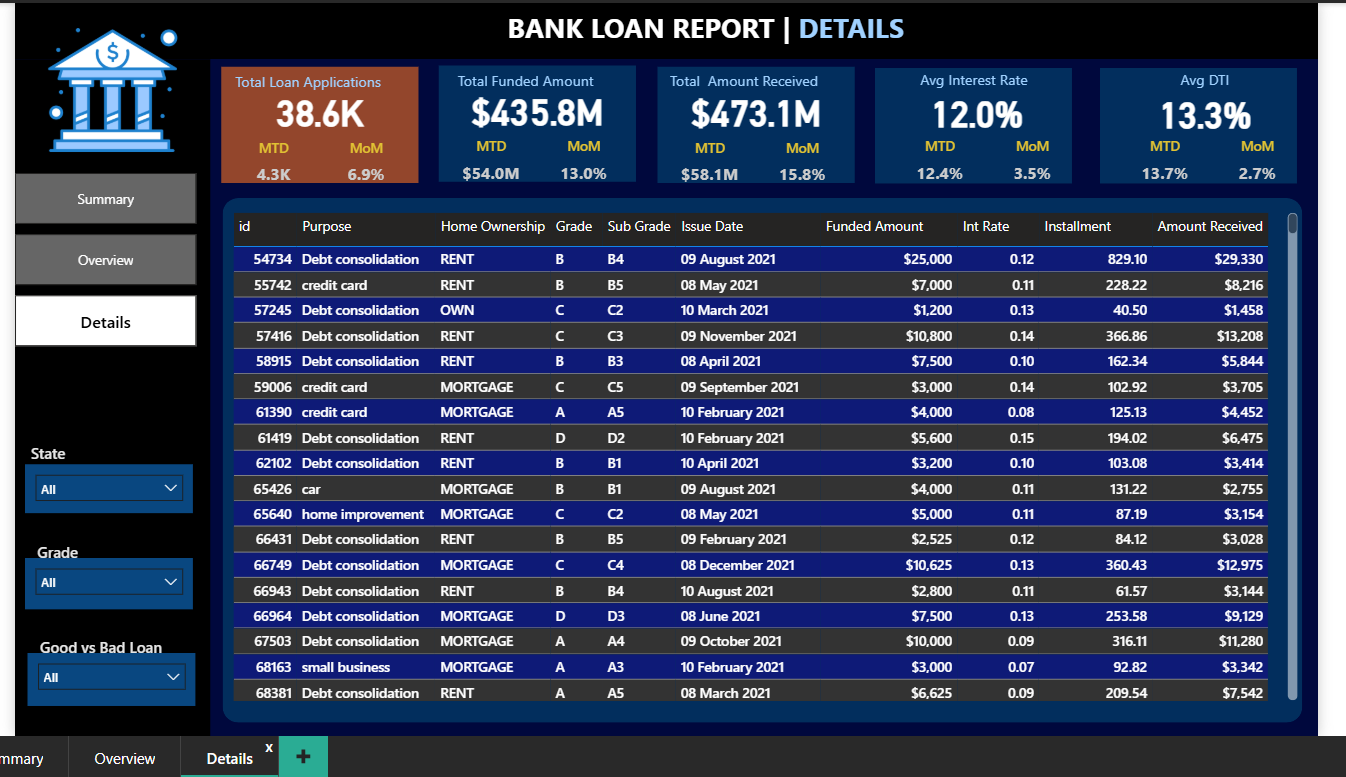

The dashboard page shown, as its layout file describes it:
{"tool":"powerbi","page":{"name":"Details","canvas":[1280,720],"ordinal":2},"visuals":[{"type":"shape","box":[0,0,1280,55],"z":0},{"type":"shape","box":[416.6,61.2,193.9,114.1],"z":0,"group":"g3"},{"type":"shape","box":[202.5,62.5,193.9,114.1],"z":0,"group":"g2"},{"type":"shape","box":[630.6,62.9,193.9,114.1],"z":0,"group":"g4"},{"type":"shape","box":[844.7,63.3,193.3,113.3],"z":1000,"group":"g5"},{"type":"shape","box":[1065,63.3,193.3,113.3],"z":1000,"group":"g6"},{"type":"card","fields":{"Values":["Bank_loan_data.Total Funded Amount"]},"box":[431.3,77.2,164.4,54],"z":1000,"group":"g3"},{"type":"card","fields":{"Values":["Bank_loan_data.Total Loan Applications"]},"box":[217.2,78.5,164.4,54],"z":1000,"group":"g2"},{"type":"card","fields":{"Values":["Bank_loan_data.Total Amount Received"]},"box":[645.3,78.8,164.4,54],"z":1000,"group":"g4"},{"type":"shape","box":[203.3,191.7,1060,515],"z":1000},{"type":"shape","box":[0,55,191.7,665],"z":2000},{"type":"textbox","box":[416.6,61.2,170.6,31.9],"z":2000,"group":"g3"},{"type":"textbox","box":[630.6,61.2,170,31.7],"z":2000,"group":"g4"},{"type":"textbox","box":[202.5,62.5,170.6,31.9],"z":2000,"group":"g2"},{"type":"textbox","box":[471.2,1.2,472.4,54],"z":3000},{"type":"card","fields":{"Values":["Bank_loan_data.Avg Interest Rate"]},"box":[863,80,163.3,53.3],"z":3000,"group":"g5"},{"type":"card","fields":{"Values":["Bank_loan_data.Avg DTI"]},"box":[1087.2,81.2,162.5,53.8],"z":3000,"group":"g6"},{"type":"card","title":"MTD","fields":{"Values":["Bank_loan_data.MTD Funded Amount"]},"box":[422.7,131.1,90.8,57.7],"z":3000,"group":"g3"},{"type":"card","title":"MTD","fields":{"Values":["Bank_loan_data.MTD Loan Applications"]},"box":[208.6,132.4,90.8,57.7],"z":3000,"group":"g2"},{"type":"card","title":"MTD","fields":{"Values":["Bank_loan_data.MTD Total Amount Received"]},"box":[636.7,132.8,90.8,57.7],"z":3000,"group":"g4"},{"type":"group","id":"g1","title":"Group 1","box":[202.5,62.5,193.8,127.5],"z":4000},{"type":"card","title":"MoM","fields":{"Values":["Bank_loan_data.MoM Total Funded Amount"]},"box":[513.5,131.1,90.8,57.7],"z":4000,"group":"g3"},{"type":"card","title":"MoM","fields":{"Values":["Bank_loan_data.MoM Loan Application"]},"box":[299.4,132.4,90.8,57.7],"z":4000,"group":"g2"},{"type":"card","title":"MoM","fields":{"Values":["Bank_loan_data.MoM Total Amount Received"]},"box":[727.5,132.8,90.8,57.7],"z":4000,"group":"g4"},{"type":"group","id":"g2","title":"Group 2","box":[202.5,62.5,193.9,127.6],"z":4005,"group":"g1"},{"type":"textbox","box":[856.4,60,170,31.7],"z":5000,"group":"g5"},{"type":"textbox","box":[1076.7,60,170,31.7],"z":5000,"group":"g6"},{"type":"group","id":"g3","title":"Group 2","box":[416.6,61.2,193.8,128.8],"z":5000},{"type":"group","id":"g4","title":"Group 3","box":[630.6,61.2,193.8,130],"z":6000},{"type":"card","title":"MTD","fields":{"Values":["Bank_loan_data.MTD Avg Int Rate"]},"box":[862.5,131.6,90.8,57.7],"z":6000,"group":"g5"},{"type":"card","title":"MTD","fields":{"Values":["Bank_loan_data.MTD Avg DTI"]},"box":[1082.8,131.6,90.8,57.7],"z":6000,"group":"g6"},{"type":"group","id":"g5","title":"Group 4","box":[844.7,60,200,128.8],"z":7000},{"type":"card","title":"MoM","fields":{"Values":["Bank_loan_data.MoM Avg Int Rate"]},"box":[953.3,131.6,90.8,57.7],"z":7000,"group":"g5"},{"type":"card","title":"MoM","fields":{"Values":["Bank_loan_data.MoM Avg DTI"]},"box":[1173.6,131.6,90.8,57.7],"z":7000,"group":"g6"},{"type":"group","id":"g6","title":"Group 4","box":[1065,60,200,128.8],"z":8000},{"type":"slicer","fields":{"Values":["Bank_loan_data.address_state"]},"box":[10,453.3,165,48.3],"z":9000},{"type":"textbox","box":[5,426.7,63.3,43.3],"z":10000},{"type":"slicer","fields":{"Values":["Bank_loan_data.grade"]},"box":[10,545,165,50],"z":11000},{"type":"slicer","fields":{"Values":["Bank_loan_data.Good  vs Bad Loan"]},"box":[11.7,638.3,165,51.7],"z":12000},{"type":"textbox","box":[11.7,523.3,63.3,43.3],"z":13000},{"type":"textbox","box":[11.7,616.7,148.3,43.3],"z":14000},{"type":"tableEx","fields":{"Values":["Bank_loan_data.id","Bank_loan_data.purpose","Bank_loan_data.home_ownership","Bank_loan_data.grade","Bank_loan_data.sub_grade","Bank_loan_data.issue_date","Bank_loan_data.Total Funded Amount","Sum(Bank_loan_data.int_rate)","Sum(Bank_loan_data.installment)","Bank_loan_data.Total Amount Received"]},"box":[208.3,201.7,1055,488.3],"z":15000},{"type":"image","box":[15,10,161.7,151.7],"z":16000},{"type":"pageNavigator","box":[0,166.7,178.3,171.7],"z":17000}]}

Visuals, with their boxes on the page's 1280x720 design canvas (x1, y1, x2, y2). These are canvas units, not pixel positions in the 1346x777 screenshot, which may show the page scaled, cropped or inside an application window:
shape: <region>0, 0, 1280, 55</region>
shape: <region>417, 61, 610, 175</region>
shape: <region>202, 62, 396, 177</region>
shape: <region>631, 63, 824, 177</region>
shape: <region>845, 63, 1038, 177</region>
shape: <region>1065, 63, 1258, 177</region>
card - Bank_loan_data.Total Funded Amount: <region>431, 77, 596, 131</region>
card - Bank_loan_data.Total Loan Applications: <region>217, 78, 382, 132</region>
card - Bank_loan_data.Total Amount Received: <region>645, 79, 810, 133</region>
shape: <region>203, 192, 1263, 707</region>
shape: <region>0, 55, 192, 720</region>
textbox: <region>417, 61, 587, 93</region>
textbox: <region>631, 61, 801, 93</region>
textbox: <region>202, 62, 373, 94</region>
textbox: <region>471, 1, 944, 55</region>
card - Bank_loan_data.Avg Interest Rate: <region>863, 80, 1026, 133</region>
card - Bank_loan_data.Avg DTI: <region>1087, 81, 1250, 135</region>
"MTD" card: <region>423, 131, 514, 189</region>
"MTD" card: <region>209, 132, 299, 190</region>
"MTD" card: <region>637, 133, 728, 190</region>
"Group 1" group: <region>202, 62, 396, 190</region>
"MoM" card: <region>514, 131, 604, 189</region>
"MoM" card: <region>299, 132, 390, 190</region>
"MoM" card: <region>728, 133, 818, 190</region>
"Group 2" group: <region>202, 62, 396, 190</region>
textbox: <region>856, 60, 1026, 92</region>
textbox: <region>1077, 60, 1247, 92</region>
"Group 2" group: <region>417, 61, 610, 190</region>
"Group 3" group: <region>631, 61, 824, 191</region>
"MTD" card: <region>862, 132, 953, 189</region>
"MTD" card: <region>1083, 132, 1174, 189</region>
"Group 4" group: <region>845, 60, 1045, 189</region>
"MoM" card: <region>953, 132, 1044, 189</region>
"MoM" card: <region>1174, 132, 1264, 189</region>
"Group 4" group: <region>1065, 60, 1265, 189</region>
slicer - Bank_loan_data.address_state: <region>10, 453, 175, 502</region>
textbox: <region>5, 427, 68, 470</region>
slicer - Bank_loan_data.grade: <region>10, 545, 175, 595</region>
slicer - Bank_loan_data.Good  vs Bad Loan: <region>12, 638, 177, 690</region>
textbox: <region>12, 523, 75, 567</region>
textbox: <region>12, 617, 160, 660</region>
tableEx - Bank_loan_data.id x Bank_loan_data.purpose: <region>208, 202, 1263, 690</region>
image: <region>15, 10, 177, 162</region>
pageNavigator: <region>0, 167, 178, 338</region>
